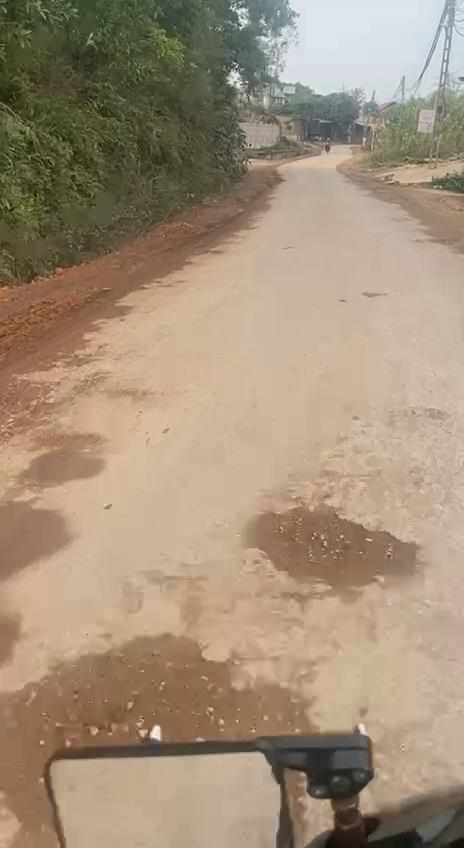pothole: (3, 632, 320, 812), (251, 497, 418, 590)
